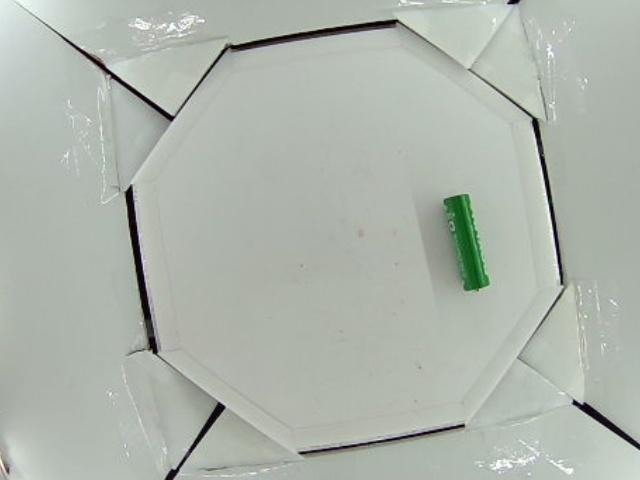Battery: (443, 192, 491, 292)
